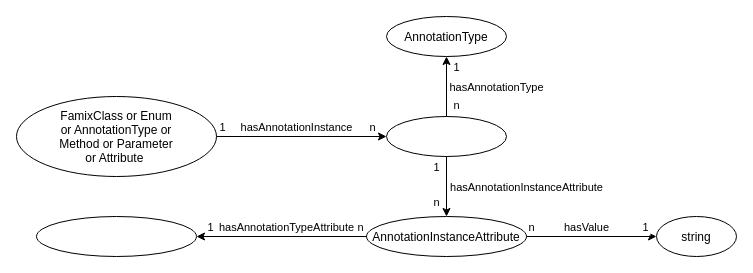
Image size: 753x273. Some labels were removed from this diagram. Here are the shapes that lost their labels. From the top down, the centre of each, then its label:
the point at 446,136: AnnotationInstance
the point at 116,236: AnnotationTypeAttribute
